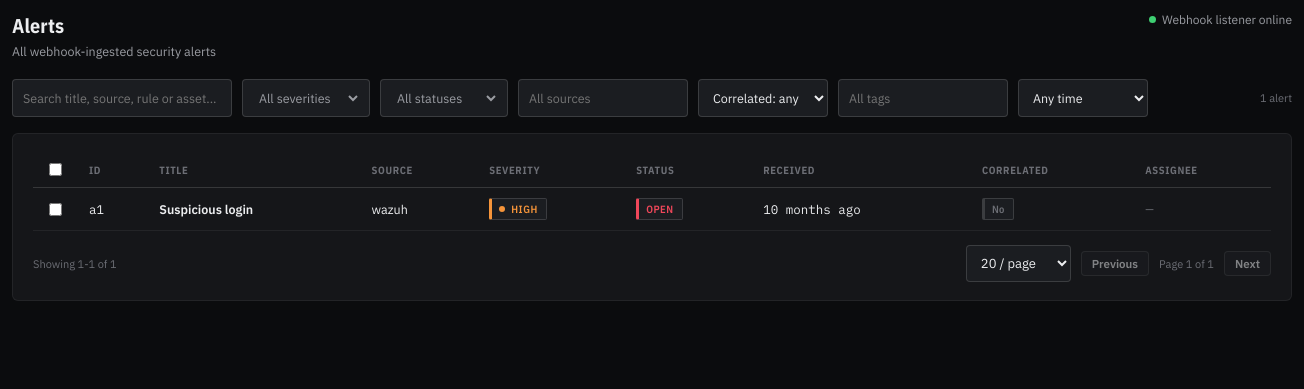
Test: AlertsListPage › bulk status-change › applying a bulk status change posts the selected ids and shows a success summary
This screenshot has width=1304, height=389.
Expected: the text "Suspicious login" is shown, x1=147 y1=188 x2=360 y2=230
Click the checkbox named "Select alert" at [56, 209], box x1=49 y1=202 x2=62 y2=216
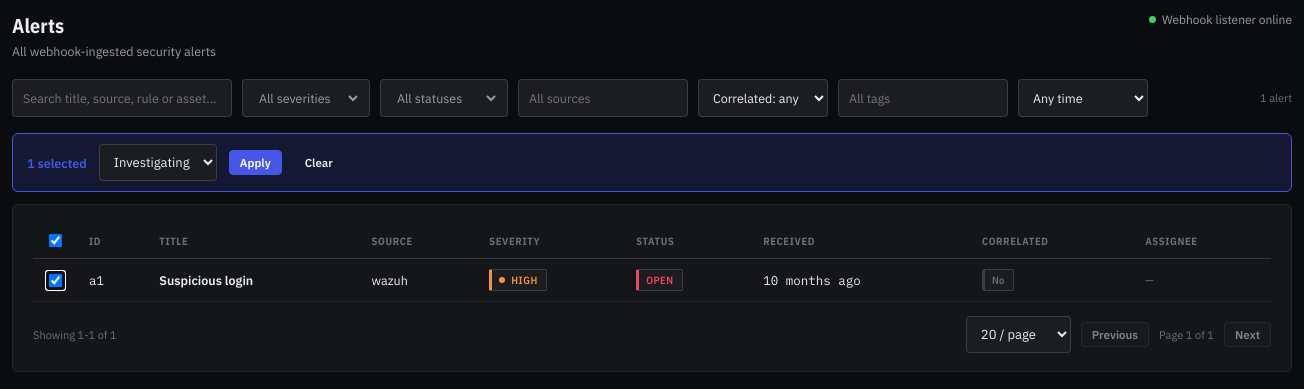
Click the button "Apply" at [255, 162], box x1=229 y1=150 x2=282 y2=175
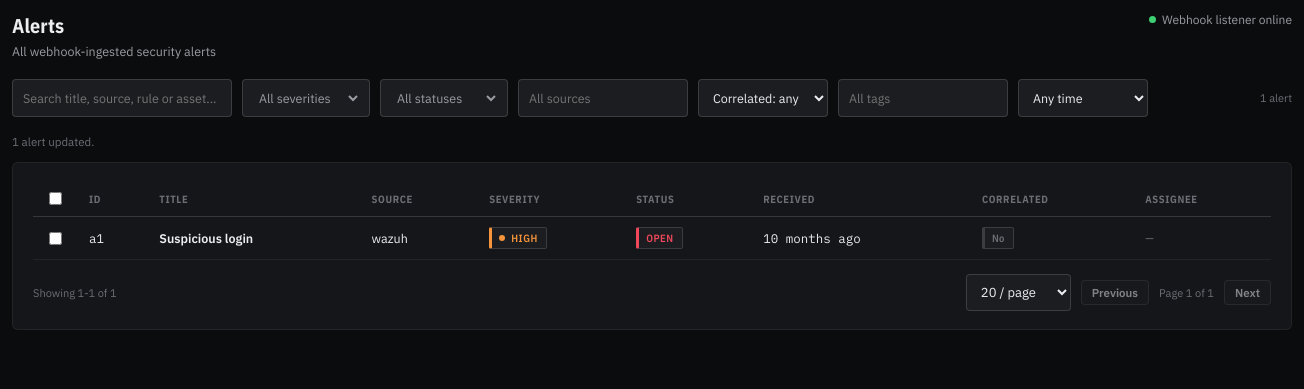
Result: the text "1 alert updated." is shown at x1=12 y1=134 x2=94 y2=149
Result: the text "selected" is gone
